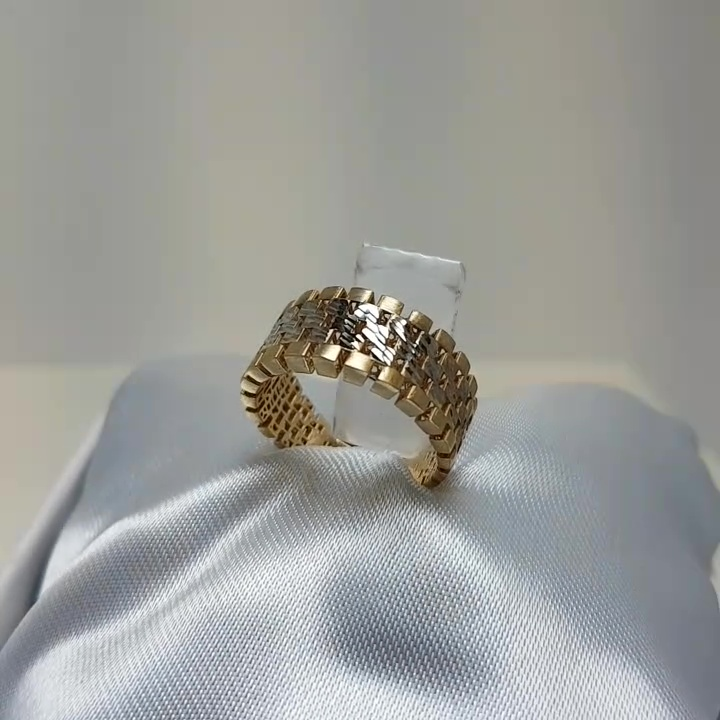Ring 1: (229, 279, 510, 502)
